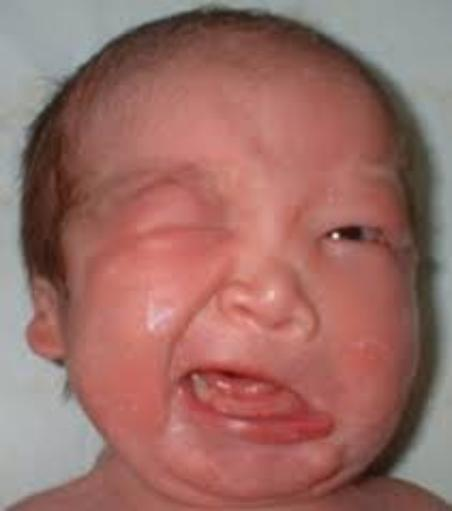left_eye: (307, 212, 410, 264)
right_eye: (91, 211, 227, 267)
right_lip_corner: (161, 356, 203, 405)
